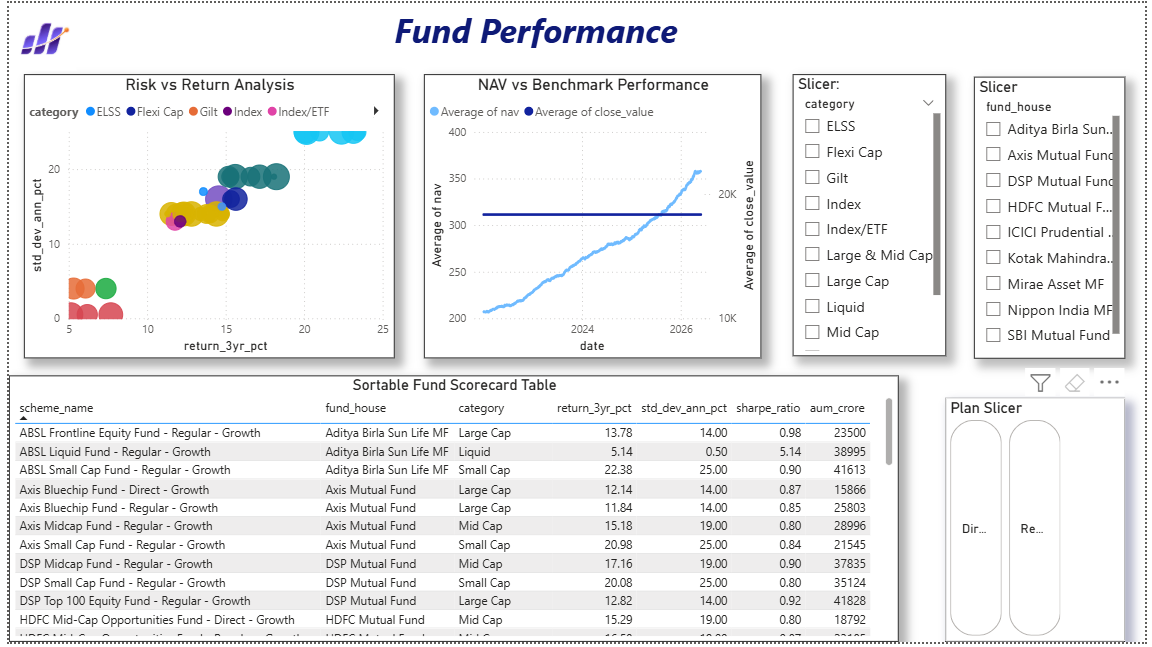

Layout of this report page (visuals, bound fields, positions):
{"tool":"powerbi","page":{"name":"Page 2 - Fund Performance","canvas":[1280,720],"ordinal":1},"visuals":[{"type":"scatterChart","title":"Risk vs Return Analysis","fields":{"X":["07_scheme_performance_cleaned.return_3yr_pct"],"Y":["07_scheme_performance_cleaned.std_dev_ann_pct"],"Series":["07_scheme_performance_cleaned.category"],"Size":["Sum(07_scheme_performance_cleaned.aum_crore)"]},"box":[71.8,0,419.2,359],"z":0},{"type":"tableEx","title":"Sortable Fund Scorecard Table","fields":{"Values":["07_scheme_performance_cleaned.scheme_name","07_scheme_performance_cleaned.fund_house","07_scheme_performance_cleaned.category","07_scheme_performance_cleaned.return_3yr_pct","07_scheme_performance_cleaned.std_dev_ann_pct","07_scheme_performance_cleaned.sharpe_ratio","07_scheme_performance_cleaned.aum_crore"]},"box":[0,391,1001.3,329.5],"z":1000},{"type":"lineChart","title":"NAV vs Benchmark Performance","fields":{"Y":["Avg(02_nav_history_cleaned.nav)"],"Category":["02_nav_history_cleaned.date"],"Y2":["Avg(10_benchmark_indices_cleaned.close_value)"]},"box":[514.1,0,380.8,359],"z":2000},{"type":"slicer","title":"Slicer","fields":{"Values":["01_fund_master_cleaned.fund_house"]},"box":[1097.4,1.3,170.5,359],"z":3000},{"type":"slicer","title":"Slicer:","fields":{"Values":["07_scheme_performance_cleaned.category"]},"box":[914.1,1.3,173.1,359],"z":4000},{"type":"advancedSlicerVisual","title":"Plan Slicer","fields":{"Values":["01_fund_master_cleaned.plan"]},"box":[1053.8,420.5,202.6,300],"z":5000},{"type":"image","box":[0,0,81.1,81.1],"z":5001}]}

Visuals, with their boxes in screenshot pixels (x1, y1, x2, y2), scaled from the page's 1280x720 canvas onto the 1152x647 screenshot:
"Risk vs Return Analysis" scatterChart: (left=65, top=0, right=442, bottom=323)
"Sortable Fund Scorecard Table" tableEx: (left=0, top=351, right=901, bottom=646)
"NAV vs Benchmark Performance" lineChart: (left=463, top=0, right=805, bottom=323)
"Slicer" slicer: (left=988, top=1, right=1141, bottom=324)
"Slicer:" slicer: (left=823, top=1, right=978, bottom=324)
"Plan Slicer" advancedSlicerVisual: (left=948, top=378, right=1131, bottom=646)
image: (left=0, top=0, right=73, bottom=73)
